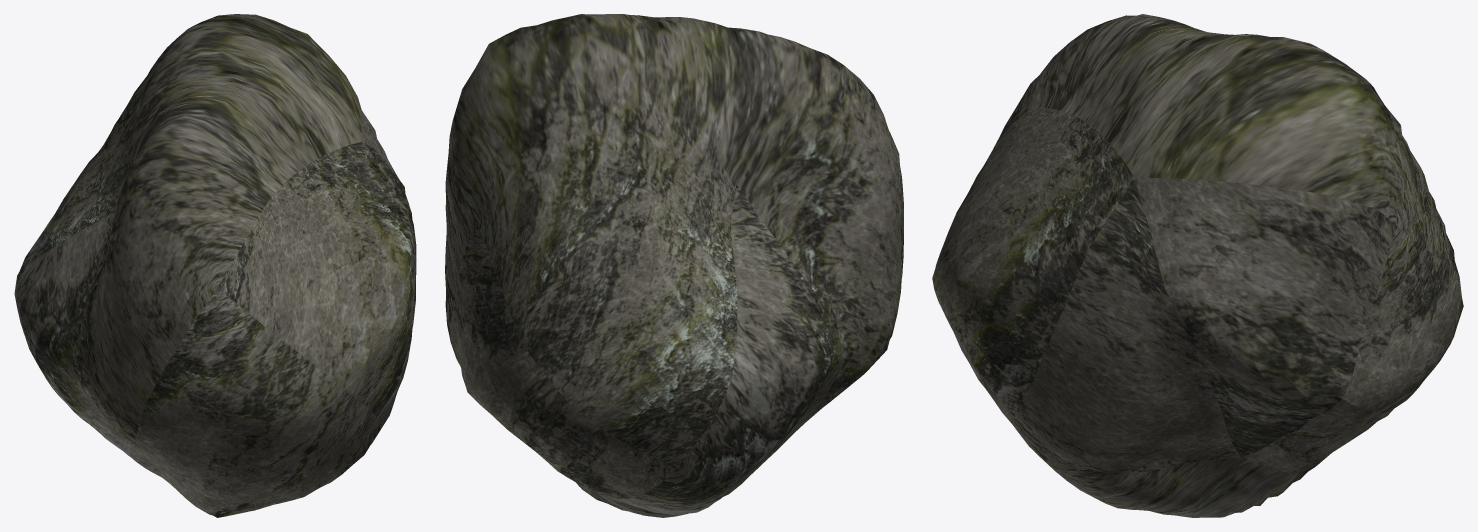
Rendered from Rock6.fbx.
3 renders of one model, left to right at view 1: azimuth 30°, elevation 25°; view 2: azimuth 150°, elevation 25°; view 3: azimuth 270°, elevation 25°, orthographic. The views are drawn at different scales.
Visible parts, largest first — view 1: rock.007; view 2: rock.007; view 3: rock.007.
Part boxes in pixels (x1=…): rock.007: x1=14, y1=14, x2=416, y2=517; rock.007: x1=445, y1=14, x2=903, y2=517; rock.007: x1=932, y1=14, x2=1463, y2=517.
Bounding box in the file's own units: 99.27 × 127 × 124.
